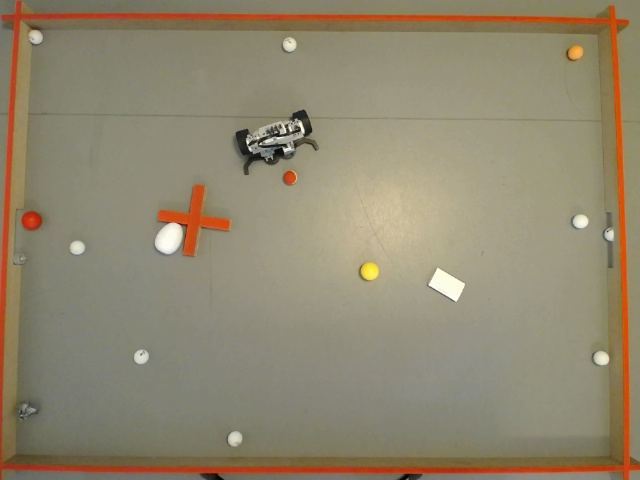big_goal: (604, 210, 624, 267), (2, 206, 20, 264)
cross: (156, 183, 228, 257)
egg: (155, 222, 181, 252)
orange: (570, 45, 582, 57)
robot: (234, 108, 318, 174)
wall: (4, 12, 626, 38), (595, 3, 628, 471), (0, 3, 31, 462), (1, 453, 627, 471)
white: (595, 351, 607, 365), (70, 242, 84, 254), (575, 213, 586, 228), (283, 39, 294, 50), (230, 432, 241, 443), (30, 32, 42, 41), (136, 351, 148, 360), (606, 225, 611, 237)
